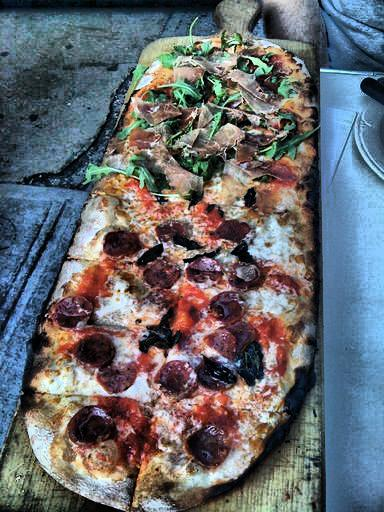pizza: (25, 31, 332, 510)
